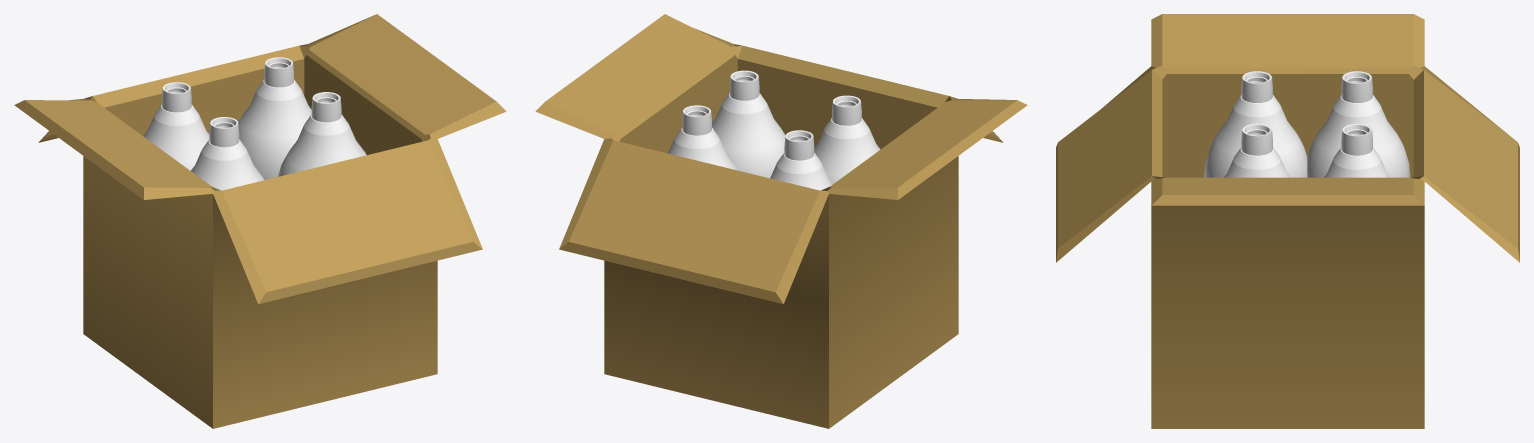
Rendered from Box&Bottles.fbx.
3 renders of one model, left to right at view 1: azimuth 30°, elevation 25°; view 2: azimuth 150°, elevation 25°; view 3: azimuth 270°, elevation 25°, orthographic. The views are drawn at different scales.
Parts seen in each view (by area): view 1: polySurface2, polySurface7, polySurface10, polySurface8, polySurface9; view 2: polySurface2, polySurface10, polySurface9, polySurface7, polySurface8; view 3: polySurface2, polySurface9, polySurface8, polySurface7, polySurface10.
Part boxes in pixels (x1,y1,x2,y2): polySurface2: [14, 14, 506, 428]; polySurface7: [238, 57, 311, 179]; polySurface10: [278, 92, 366, 176]; polySurface8: [143, 82, 209, 170]; polySurface9: [191, 117, 264, 190]; polySurface2: [535, 14, 1027, 428]; polySurface10: [712, 70, 785, 178]; polySurface9: [814, 95, 880, 183]; polySurface7: [668, 105, 737, 170]; polySurface8: [770, 130, 832, 190]; polySurface2: [1056, 14, 1519, 428]; polySurface9: [1204, 71, 1307, 177]; polySurface8: [1307, 71, 1410, 177]; polySurface7: [1324, 123, 1390, 177]; polySurface10: [1224, 123, 1290, 177].
Size of the model in its own units: 11.98 by 8.02 by 12.59.
